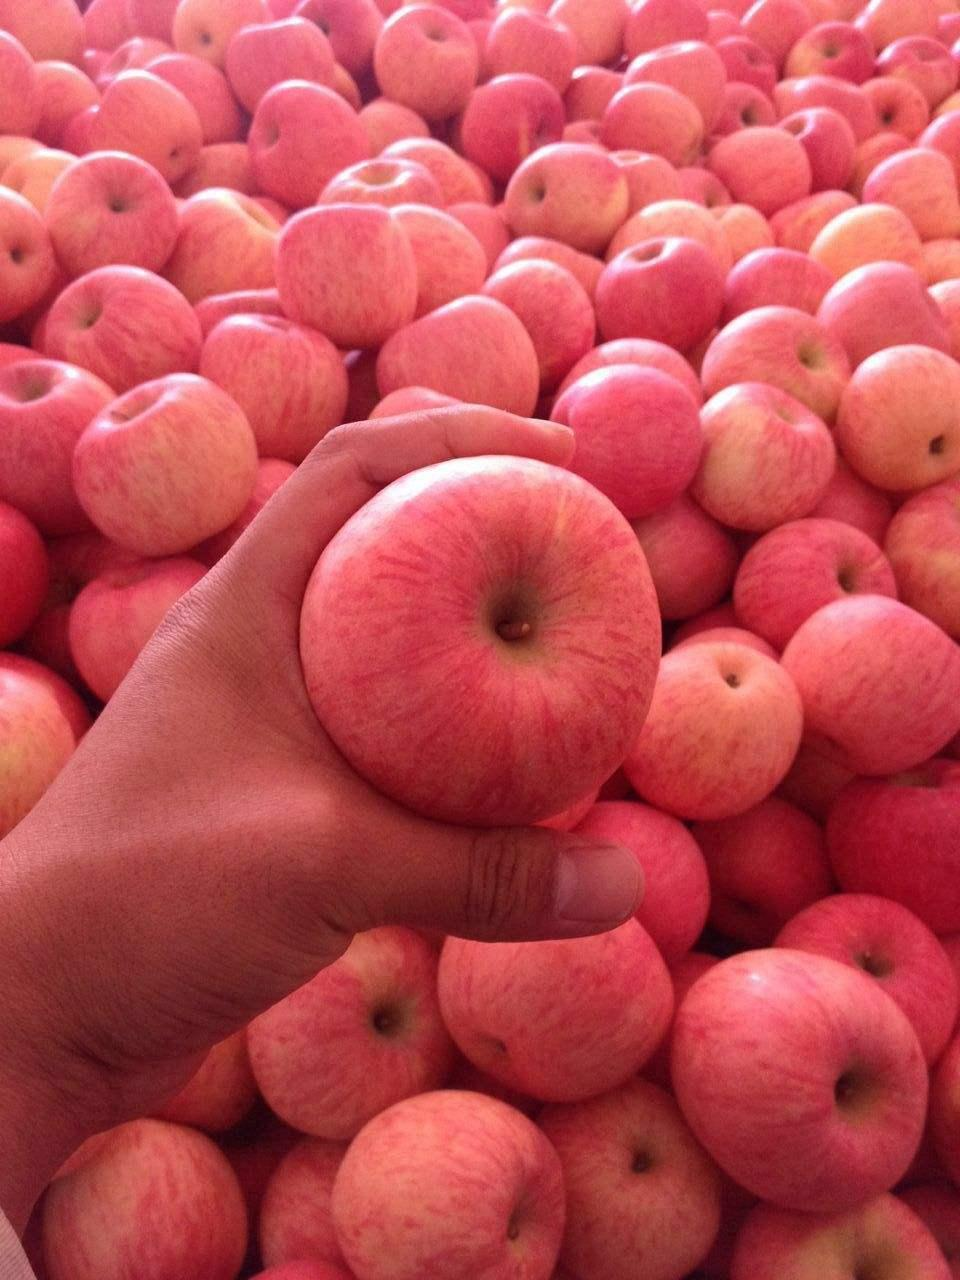apple: (301, 450, 670, 822), (677, 946, 922, 1204), (242, 927, 465, 1145), (334, 1085, 579, 1273), (426, 906, 671, 1094), (67, 371, 260, 559), (42, 1110, 249, 1279), (787, 592, 957, 775), (628, 638, 798, 821), (685, 376, 835, 519), (278, 202, 415, 353), (31, 266, 201, 388), (843, 338, 956, 493), (44, 152, 179, 279), (369, 304, 543, 401), (1, 651, 87, 838), (240, 78, 367, 194), (702, 305, 845, 405), (606, 238, 728, 344), (506, 145, 627, 251), (885, 475, 959, 646)
